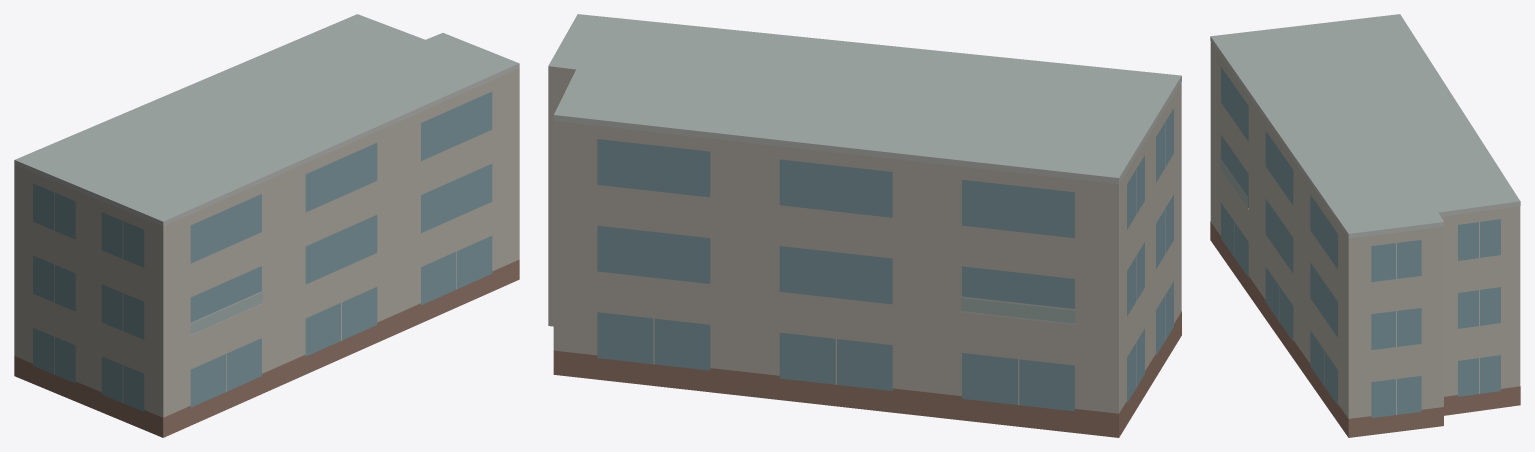
File: survey-upis-32670796.glb
3 views of the same model, side by side, from view 1: azimuth 30°, elevation 25°; view 2: azimuth 150°, elevation 25°; view 3: azimuth 270°, elevation 25° (orthographic). The views are drawn at different scales.
Visible parts, largest first — view 1: survey-upis-32670796.tmp; view 2: survey-upis-32670796.tmp; view 3: survey-upis-32670796.tmp.
Boxes of the visible parts, x1,y1,x2,y2 form: survey-upis-32670796.tmp: (14, 14, 519, 437); survey-upis-32670796.tmp: (548, 14, 1181, 437); survey-upis-32670796.tmp: (1210, 14, 1520, 437).
Size of the model in its own units: 24.52 by 10.6 by 14.61.
